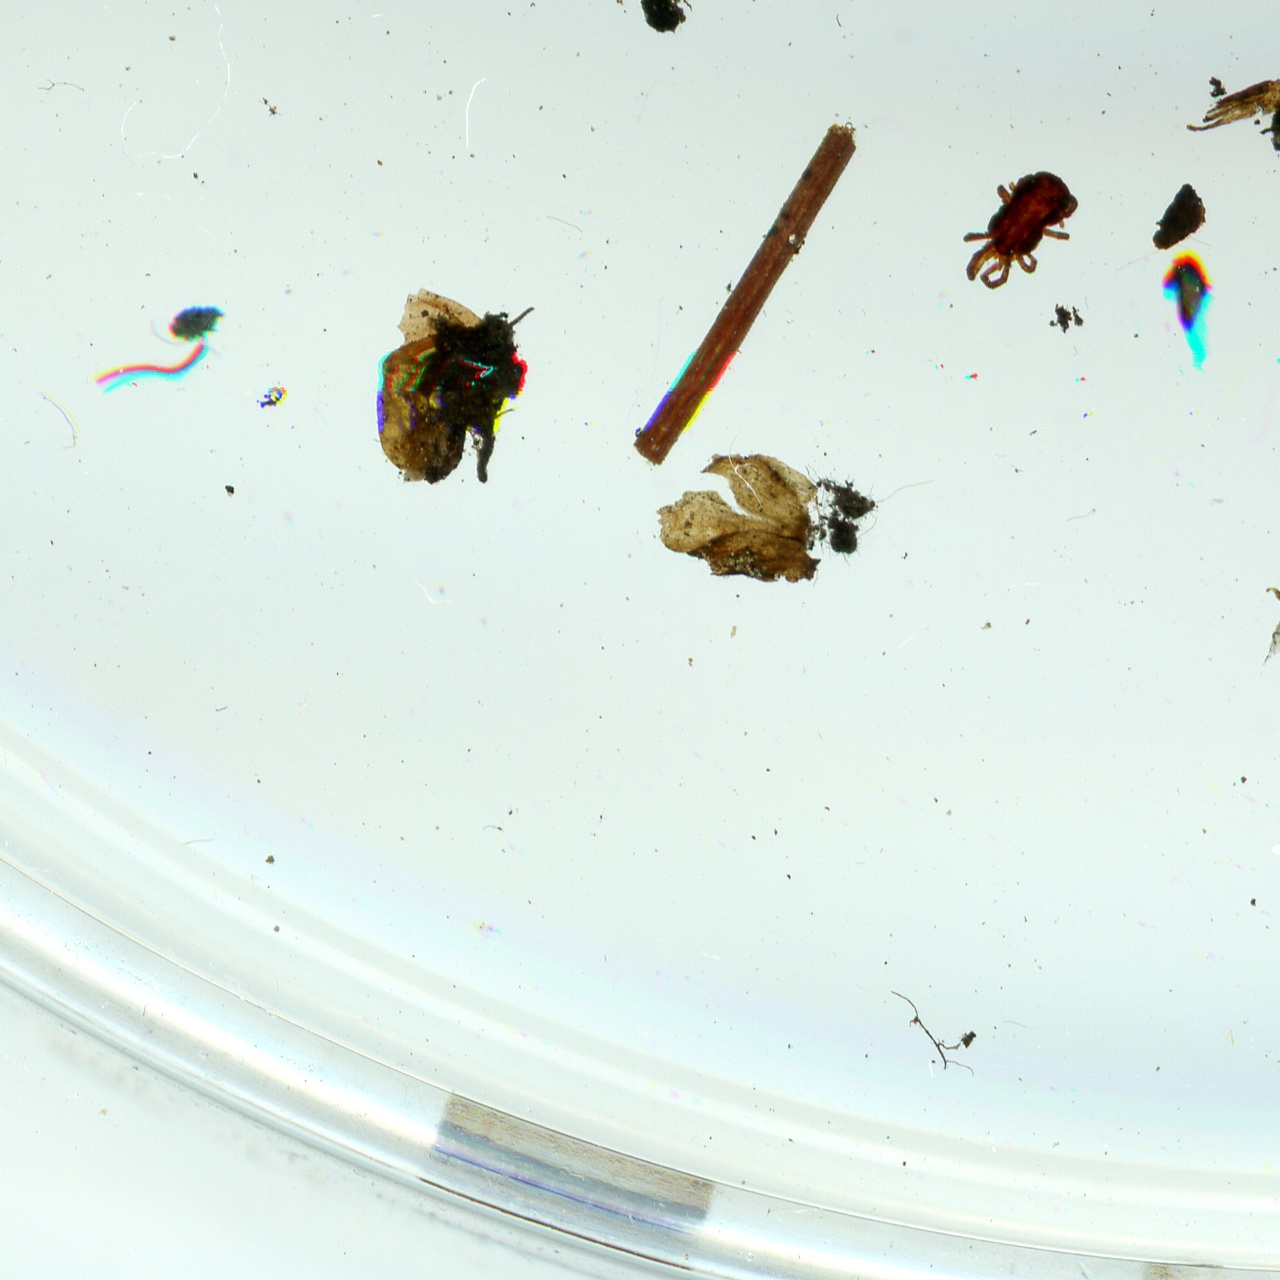arthropod: (939, 148, 1098, 316)
